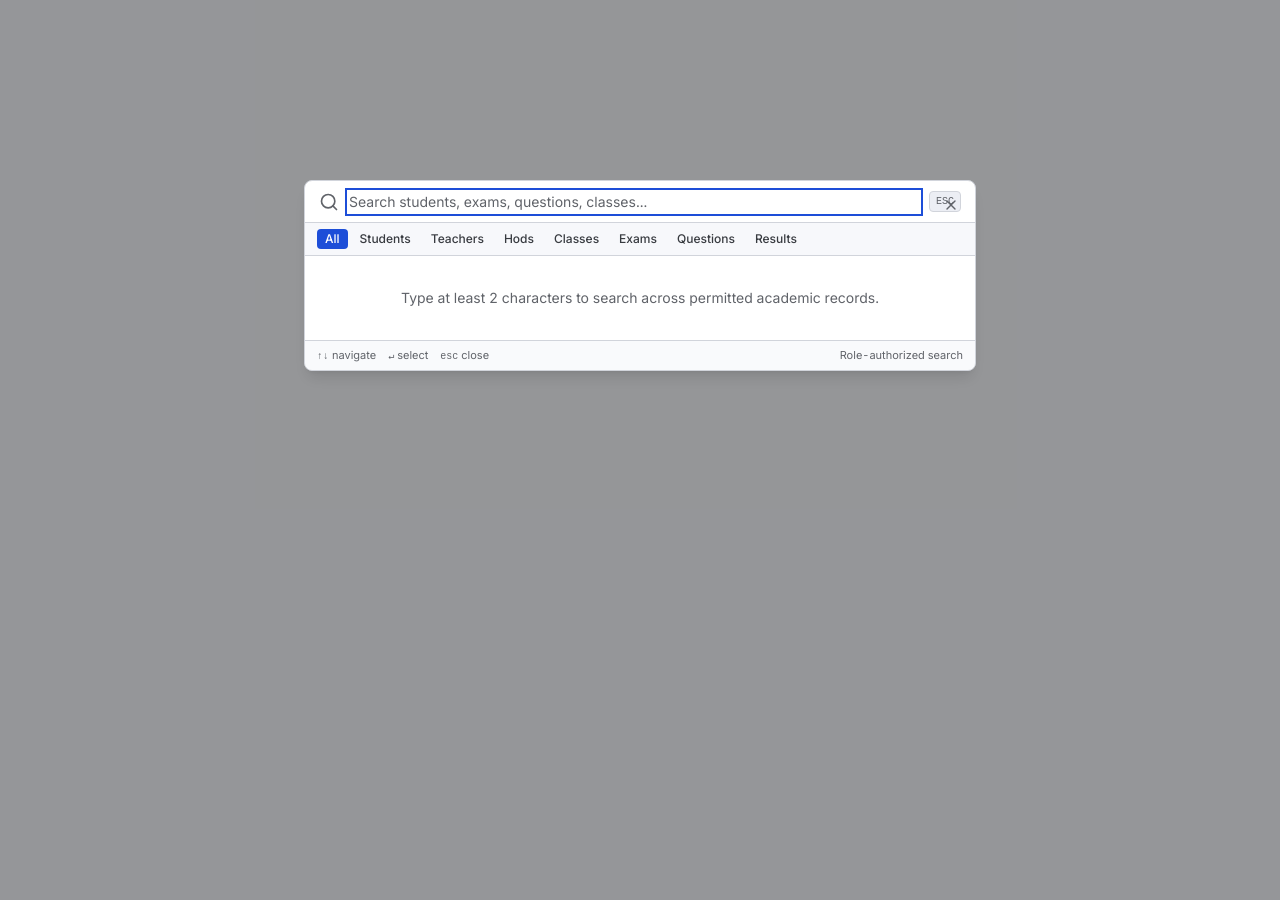
Test case: SearchDialog › shows empty state when no results are found
Type "Nonexistent" into the field named "Global search input" at point(634, 202), box [349,192,919,212]
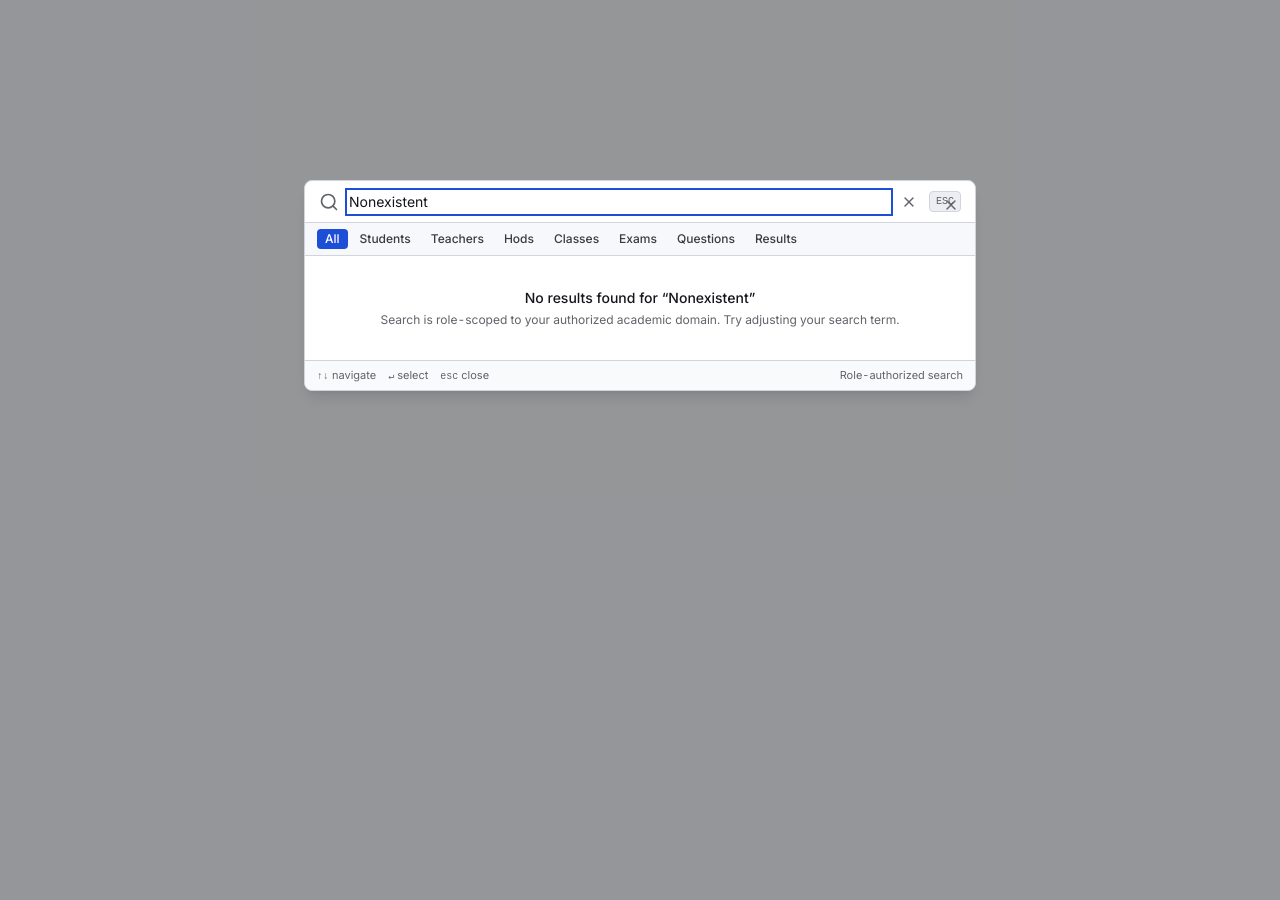
Now the text "No results found for “Nonexistent”" is shown, box [525,289,755,306]
